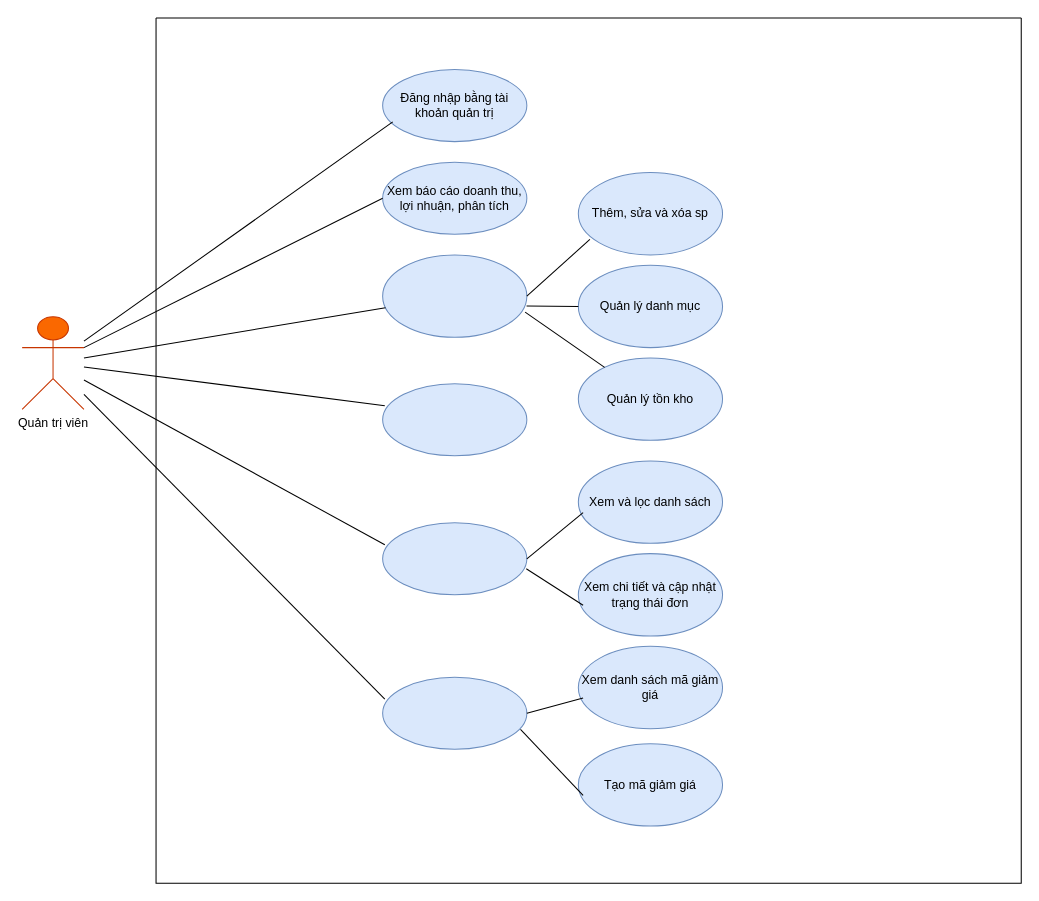
Some shapes in this 1039 by 901 pixel diagram are drawn without their labels. The centre of each missing label's shape, as x and y in pixels:
"Quản lý chương trình khuyến mãi" belongs at point (454, 712).
"Quản lý sản phẩm" belongs at point (454, 295).
"Quản lý tài khoản người dùng" belongs at point (454, 419).
"Quản lý đơn hàng" belongs at point (454, 558).
